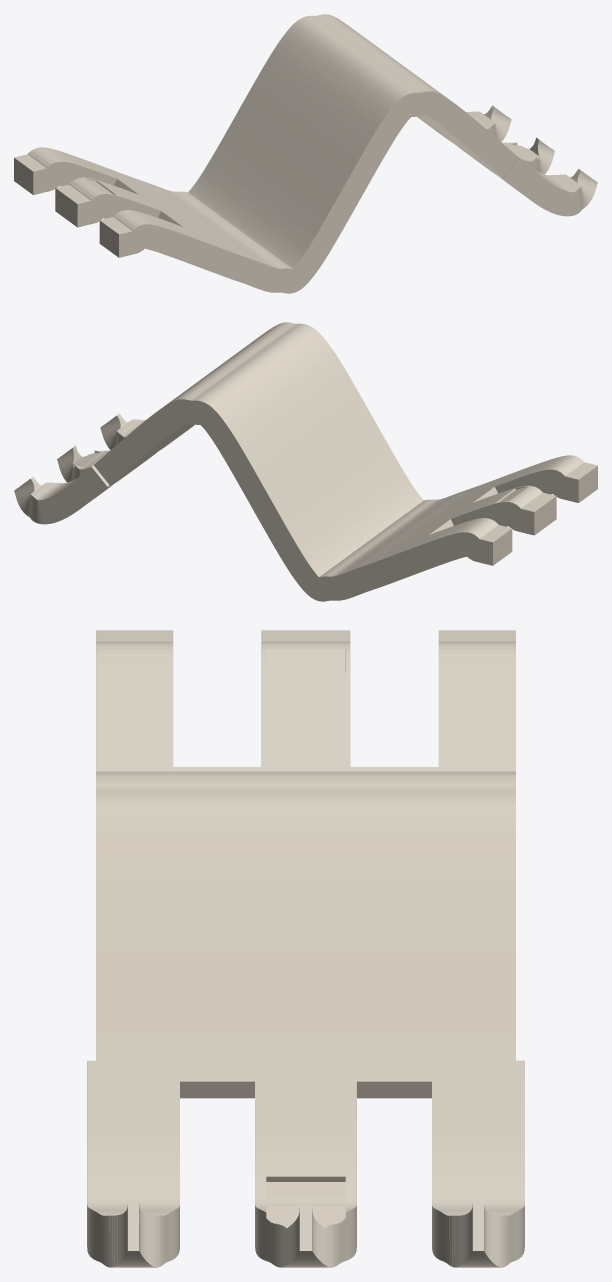
Rendered from product-15-g1-clip.glb.
The picture shows the model from 3 angles, top to bottom: view 1: azimuth 30°, elevation 25°; view 2: azimuth 150°, elevation 25°; view 3: azimuth 270°, elevation 25°; orthographic projection. The views are drawn at different scales.
Visible parts, largest first — view 1: G1_Central_Bridge; view 2: G1_Central_Bridge; view 3: G1_Central_Bridge.
Part boxes in pixels (bbox=[...]): G1_Central_Bridge: bbox=[14, 14, 597, 293]; G1_Central_Bridge: bbox=[14, 322, 597, 601]; G1_Central_Bridge: bbox=[87, 630, 524, 1267].
Size of the model in its own units: 0.0509 by 0.0171 by 0.0198.
